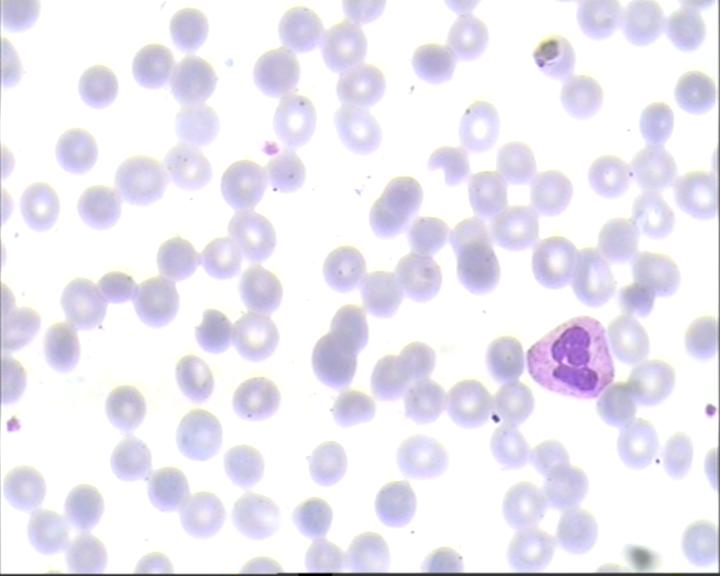neut: (522, 310, 619, 401)
